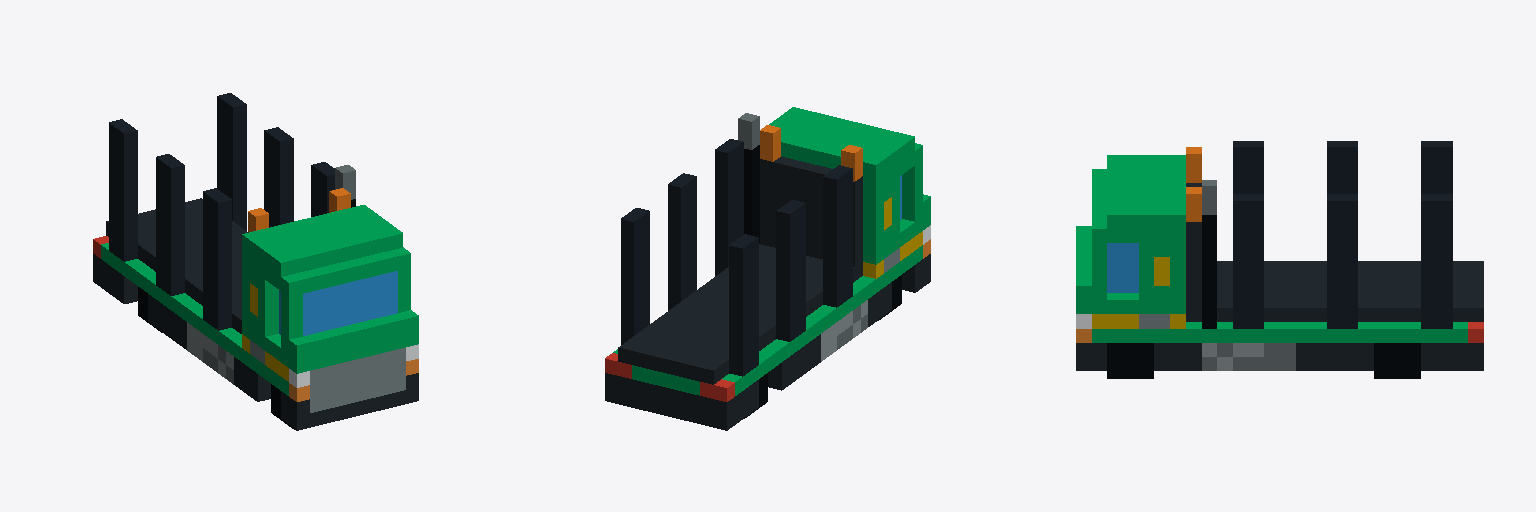
3 renders of one model, left to right at view 1: azimuth 30°, elevation 25°; view 2: azimuth 150°, elevation 25°; view 3: azimuth 270°, elevation 25°, orthographic.
Visible parts, largest first — view 1: object 1; view 2: object 1; view 3: object 1.
Boxes of the visible parts, <box> form: object 1: <box>93,93,418,430</box>; object 1: <box>605,107,930,430</box>; object 1: <box>1076,141,1483,378</box>.
Bounding box in the file's own units: 0.9 × 1.4 × 2.6.
1 materials, 1 textured.